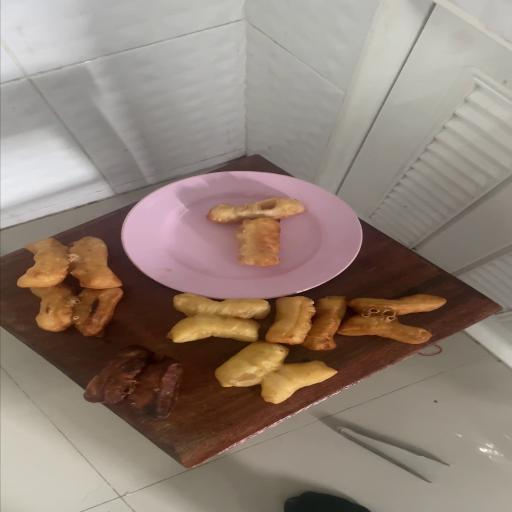street_burnt_defect: (168, 293, 269, 349), (337, 294, 446, 344), (29, 283, 122, 336), (265, 296, 339, 347), (71, 247, 109, 278), (262, 379, 294, 403)
